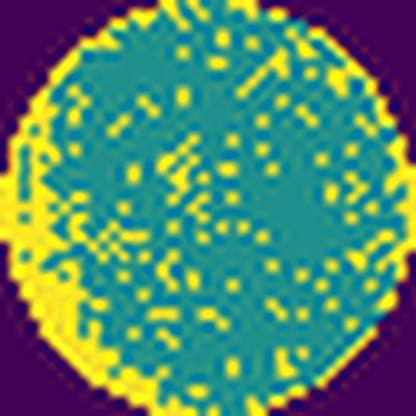Edge-Loc: (0, 0, 201, 415), (381, 135, 416, 286)
